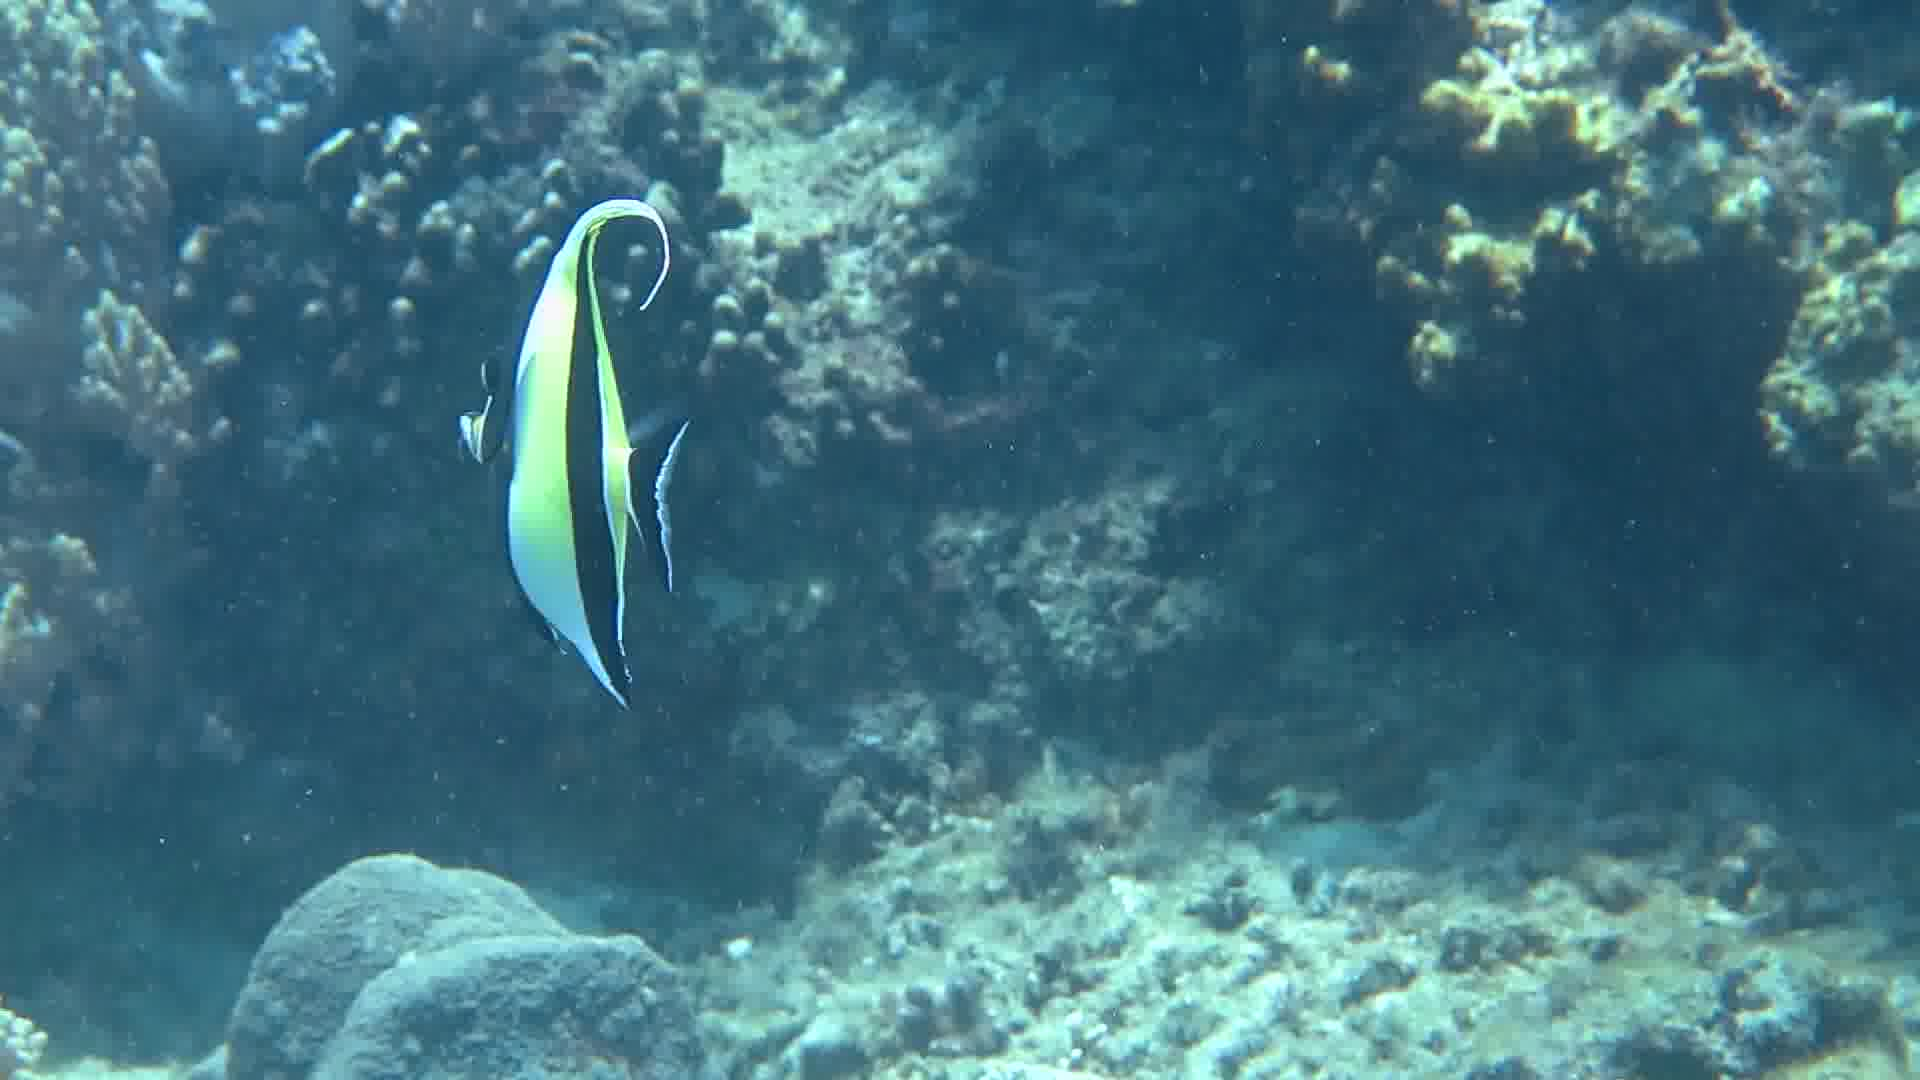Zanclus cornutus: (459, 189, 717, 741)
